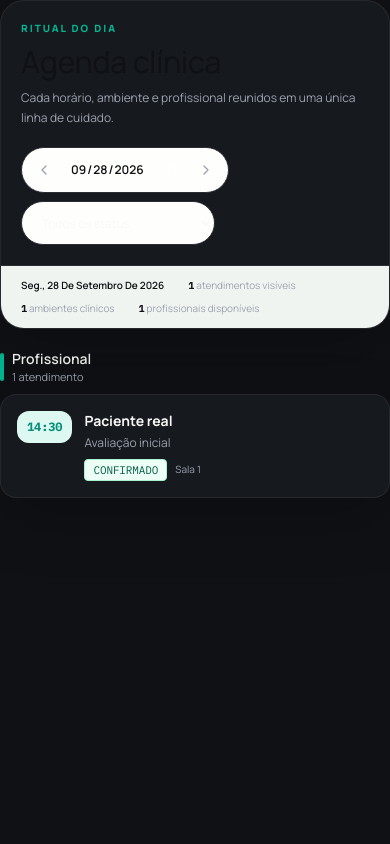
Scenario: AgendaPage › oferece cancelamento somente a quem recebeu essa permissão
Click the button "14:30 Paciente real Avaliação inicial CONFIRMADO Sala 1": (45, 426) top-left (0, 394), bottom-right (389, 498)
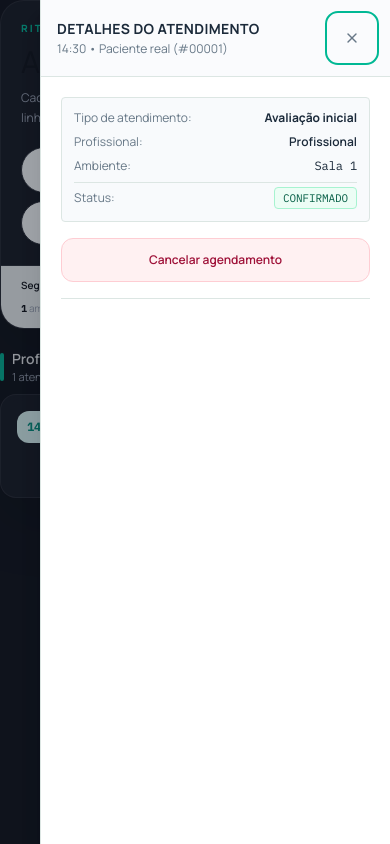
Check: the button "Cancelar agendamento" is shown, box top-left (61, 238), bottom-right (370, 282)
